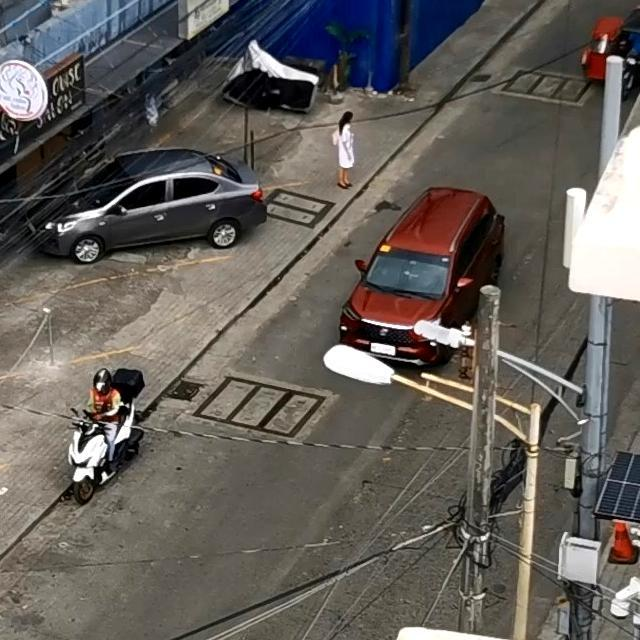Car: (338, 186, 500, 356), (32, 148, 256, 262)
